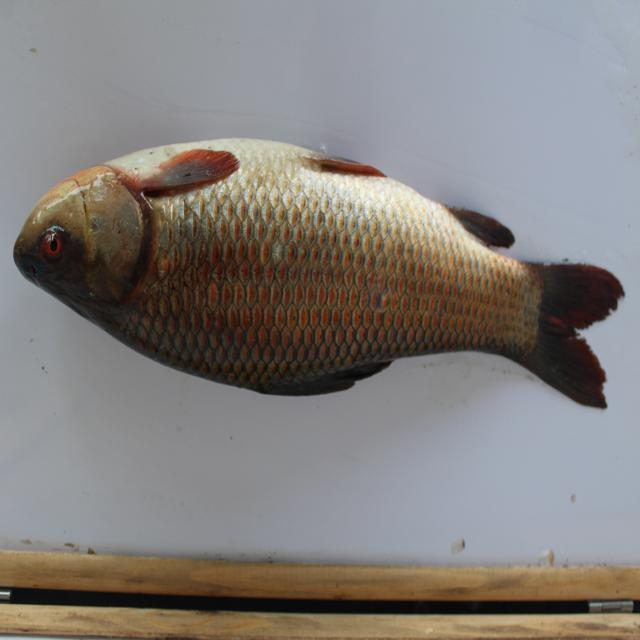Rohu: (13, 139, 620, 412)
